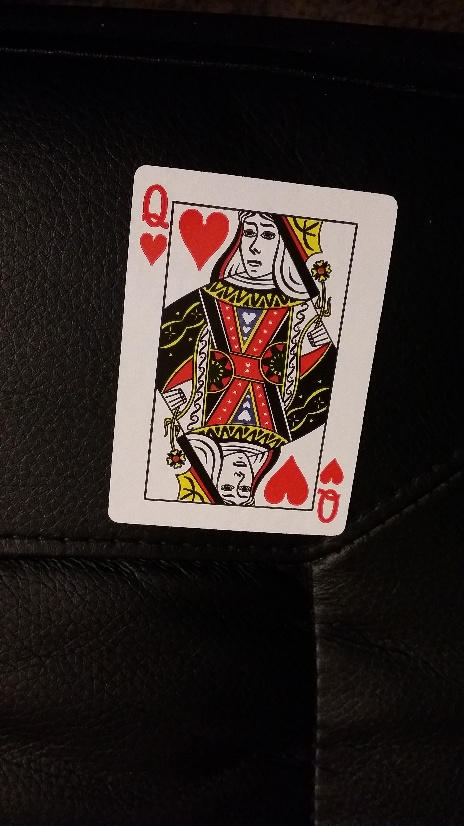Hq: (137, 181, 171, 265), (315, 455, 344, 529)
